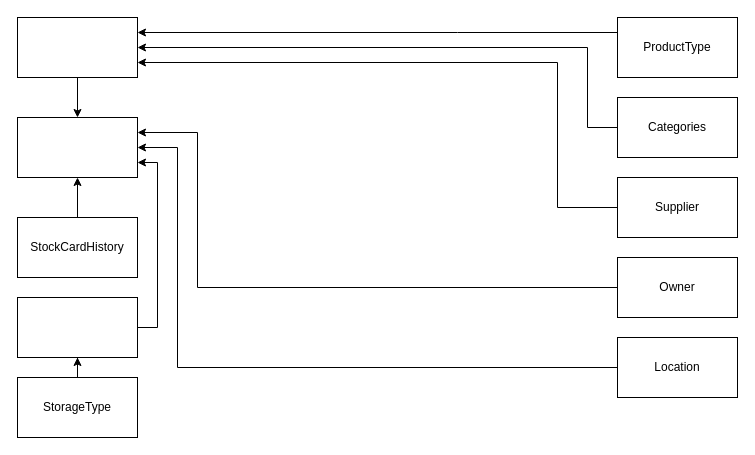
Image size: 755x455. Some labels were removed from this diagram. The shapes that lost their labels are listed below. From the top down, each one's centre as x and y in pixels, then its label:
At point 77,47: "Products".
At point 77,147: "StockCard".
At point 77,327: "Storage".
